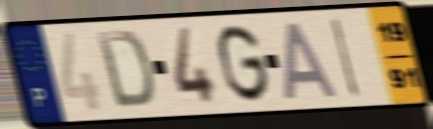4: (172, 25, 219, 108), (59, 30, 105, 114)
A: (283, 20, 343, 103)
D: (93, 28, 156, 111)
G: (215, 21, 273, 105)
I: (329, 15, 363, 101)
